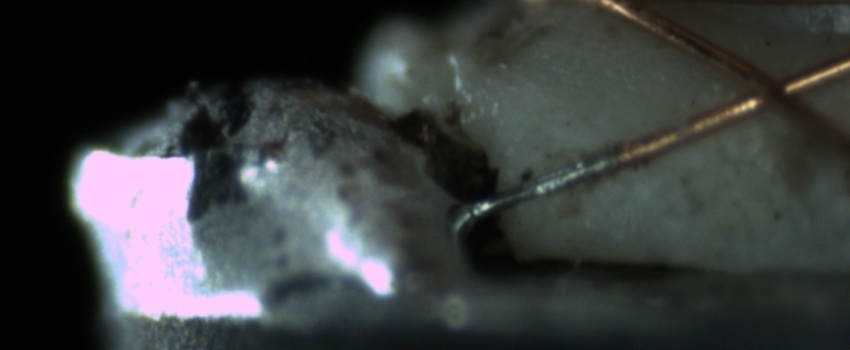CL: (720, 52, 825, 122)
TS: (463, 150, 618, 220)
TTCW: (460, 132, 657, 221)
